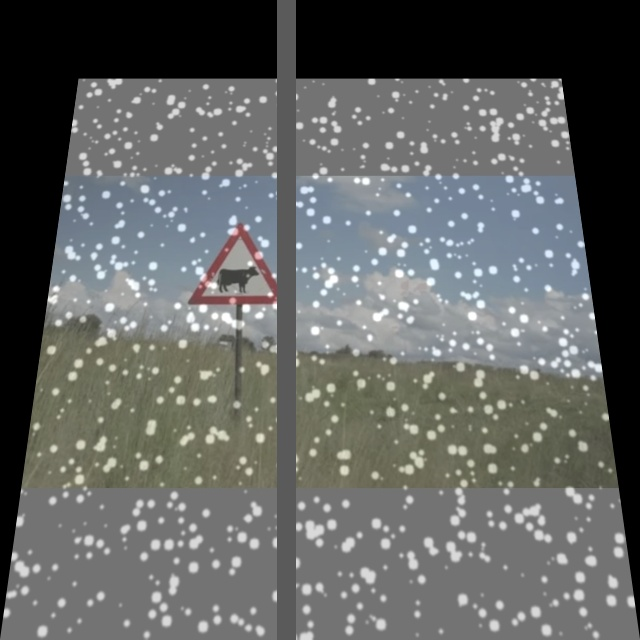Cattle: (192, 224, 286, 307)
